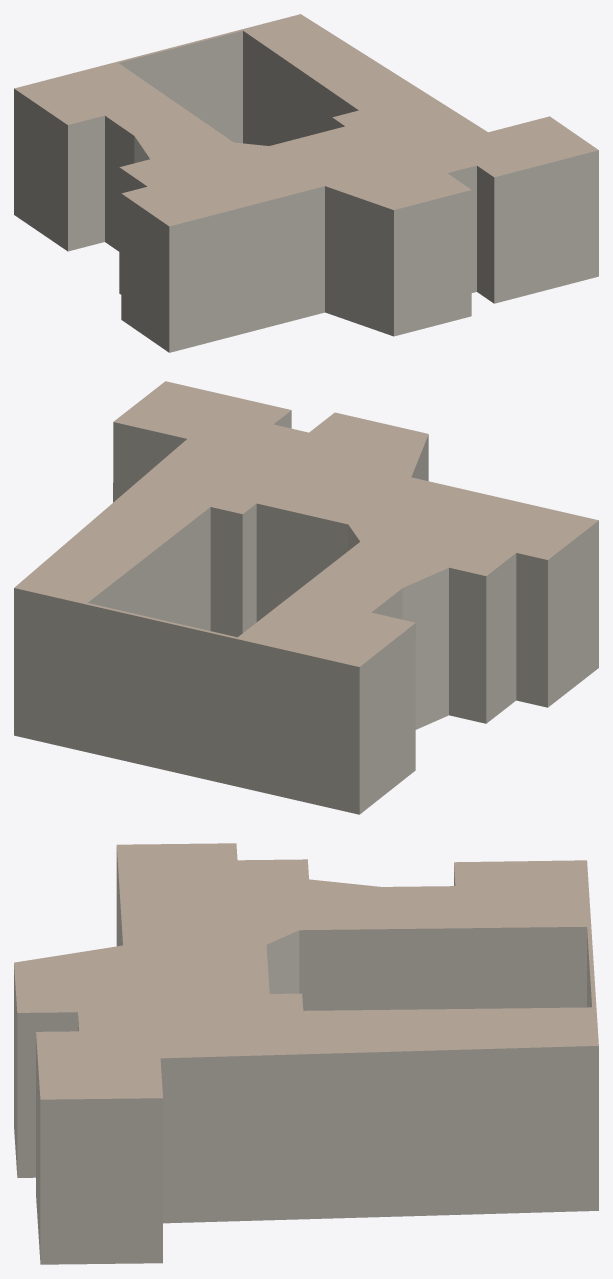
3 renders of one model, top to bottom at view 1: azimuth 30°, elevation 25°; view 2: azimuth 150°, elevation 25°; view 3: azimuth 270°, elevation 25°, orthographic. The views are drawn at different scales.
Size of the model in its own units: 36.74 by 11.04 by 35.42.
